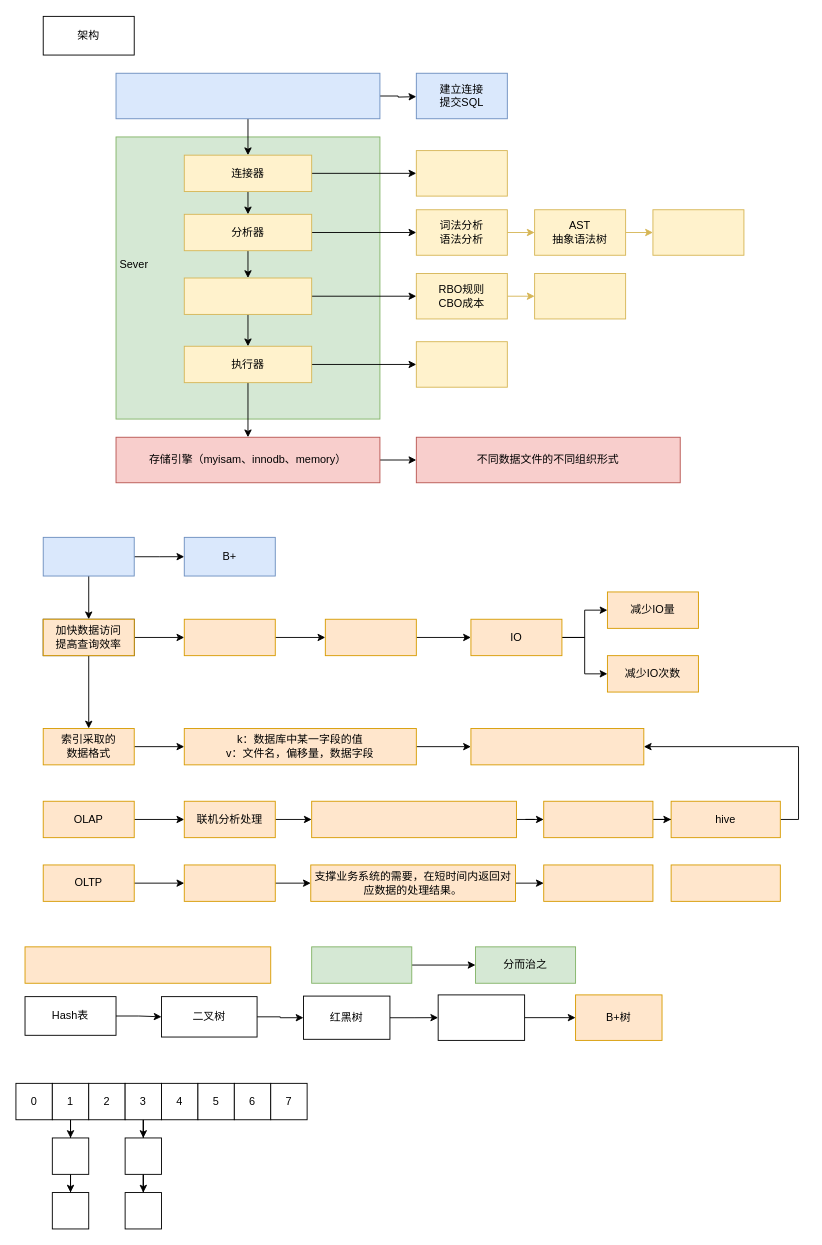
Some shapes in this 822 by 1245 pixel diagram are drawn without their labels. The shapes that lost their labels are listed below. From the top down, each one's centre as x and y in pixels, then its label:
At [247,95]: "客户端（jdbc,navicat,sqlyog）".
At [461,173]: "管理连接权限".
At [698,232]: "antlr apache calcite".
At [247,295]: "优化器".
At [580,296]: "需要看源码".
At [461,364]: "执行SQL 跟存储引擎交互".
At [88,556]: "索引".
At [229,637]: "数据存储在磁盘上".
At [370,637]: "磁盘的读取速度慢".
At [557,746]: "当文件中存储的数据量变大时，索引文件所占据的空间也随之变大。".
At [413,819]: "对历史数据进行分析，产生决策性影响，不要求短时间内返回结果".
At [598,819]: "数据仓库".
At [229,882]: "联机事务处理".
At [598,882]: "数据库".
At [725,882]: "mysql".
At [147,964]: "存储K-V格式的数据时需要使用的数据结构".
At [361,964]: "分块读取".
At [481,1017]: "B树".
